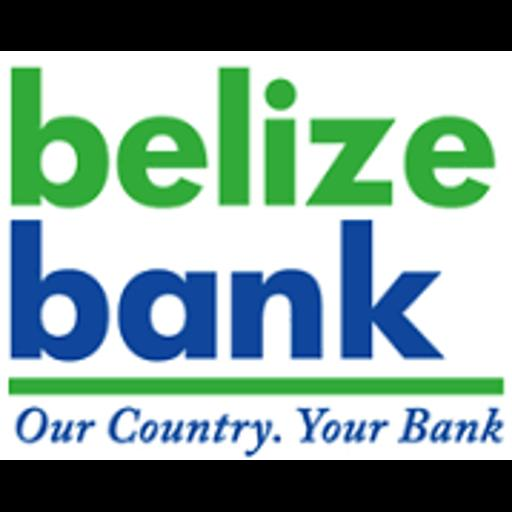Belize Bank: (0, 51, 512, 460)
